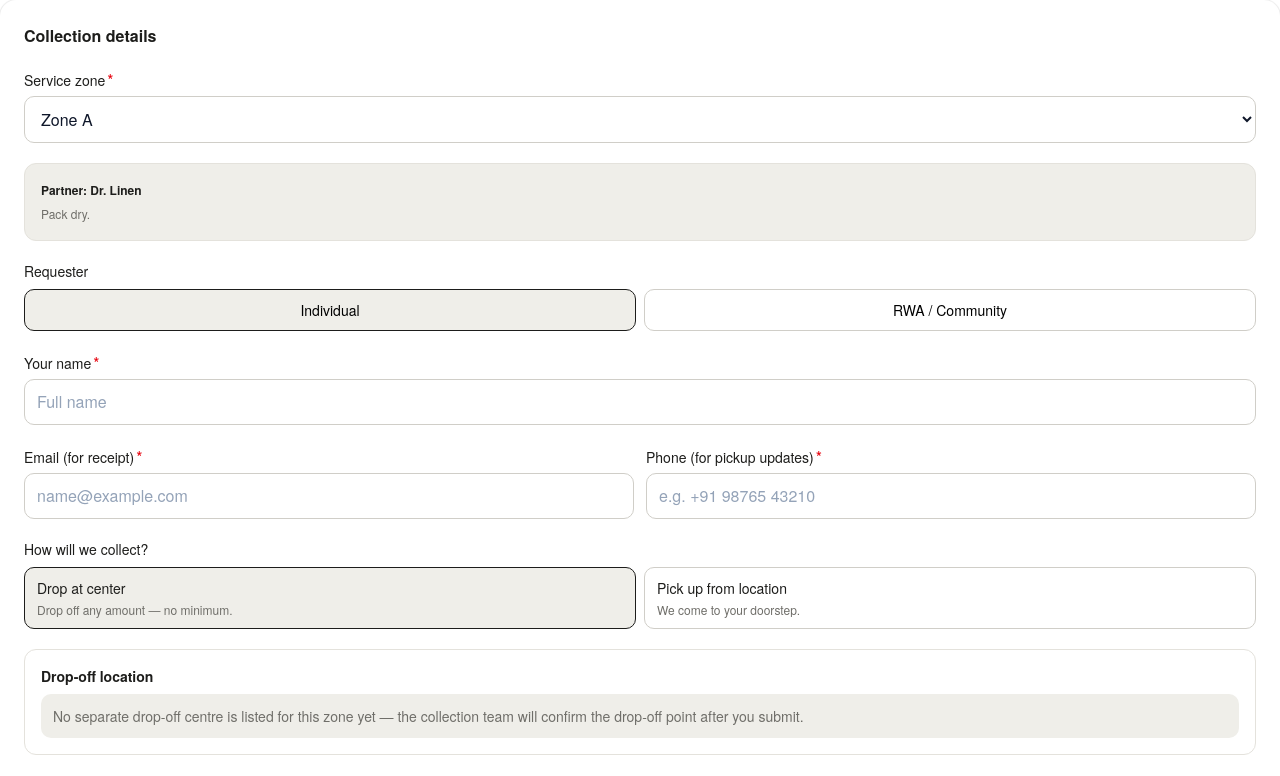
Test: TextileCollectionFields › hides the address field for drop-off and shows it for pickup from location
This screenshot has width=1280, height=776.
Expected: the radio button labelled "Drop at center Drop off any amount — no minimum." is shown, [24,567,636,629]
Expected: the field labelled "Pickup address" is not shown
# Switch to pickup: address appears.
Step 1. Click the text "Pick up from location" → (722, 588), box [657,578,787,598]
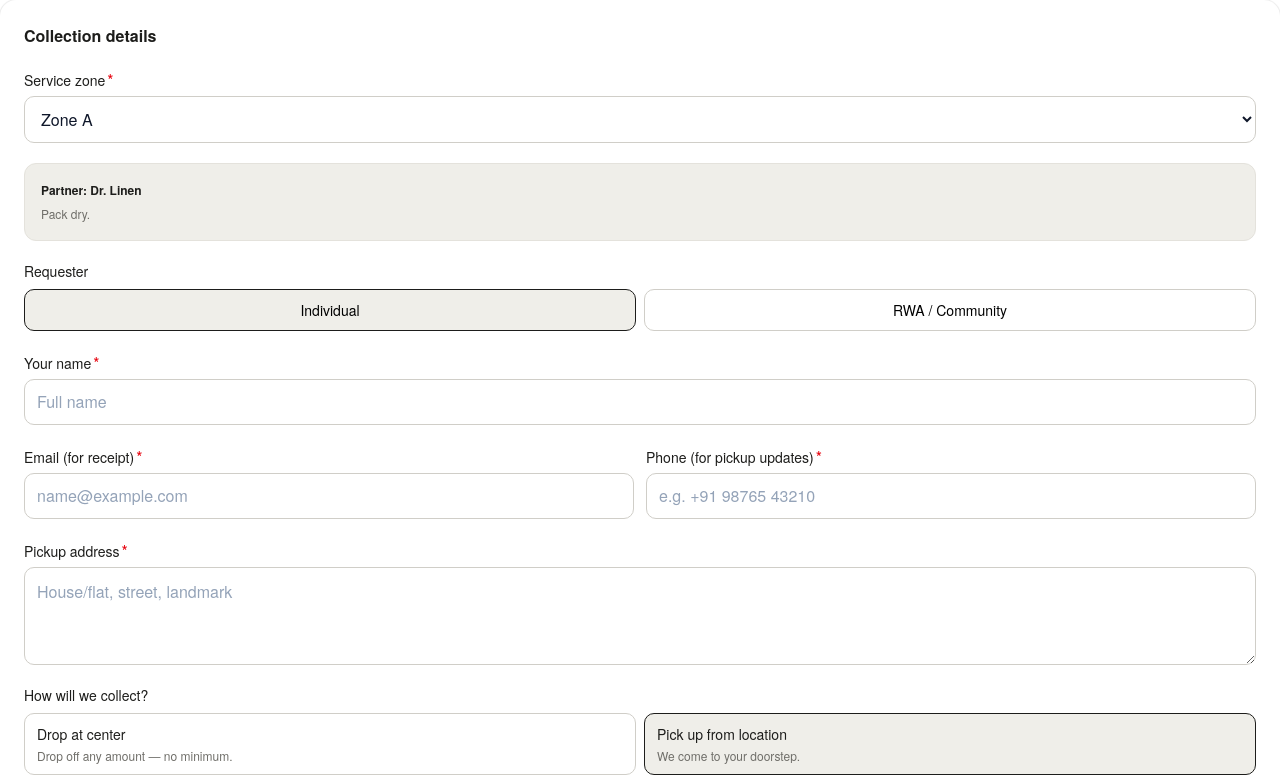
Now the text box labelled "Pickup address" is shown, box [24,567,1256,665]
# Switch back to drop-off: address hides again.
Step 2. Click the text "Drop at center" → (81, 734), box [37,724,125,744]
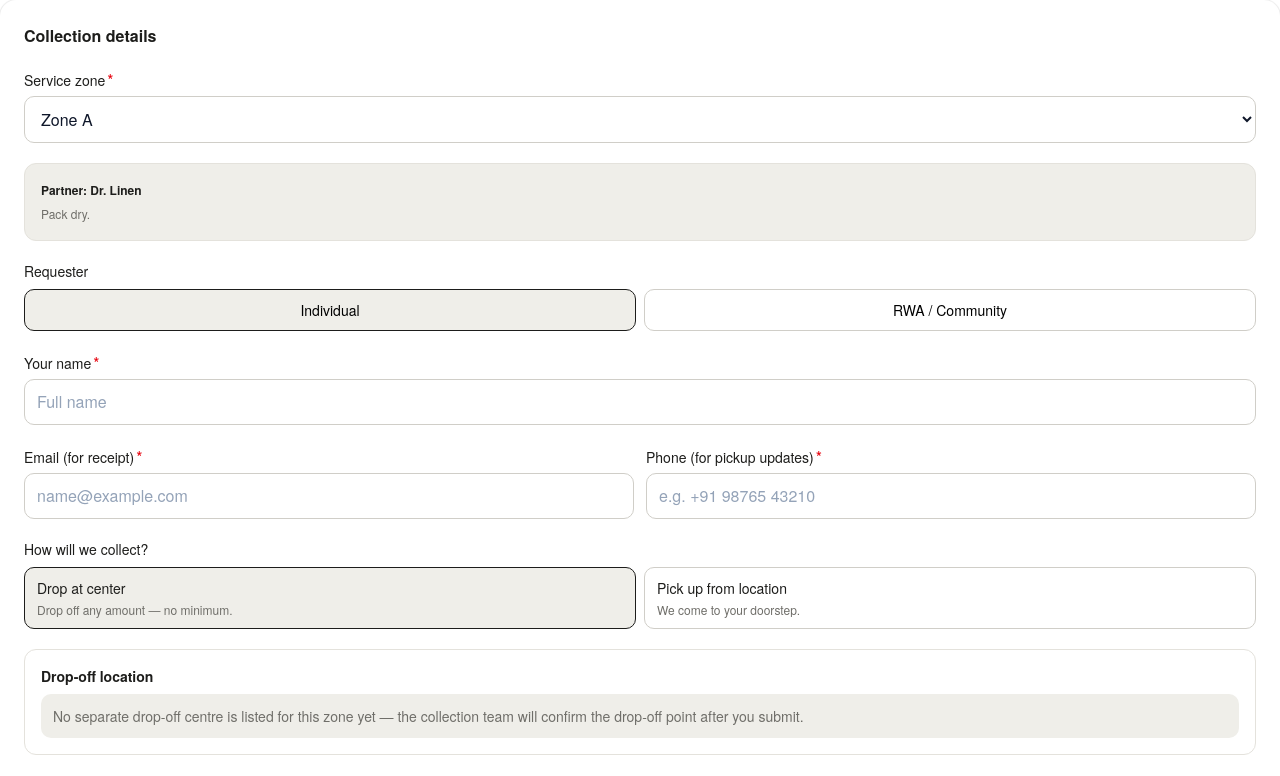
Now the label labelled "Pickup address" is gone
